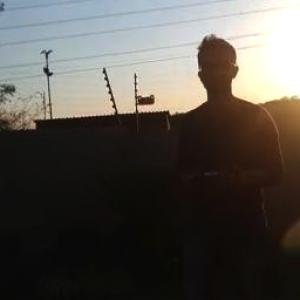follow: (169, 29, 293, 299)
